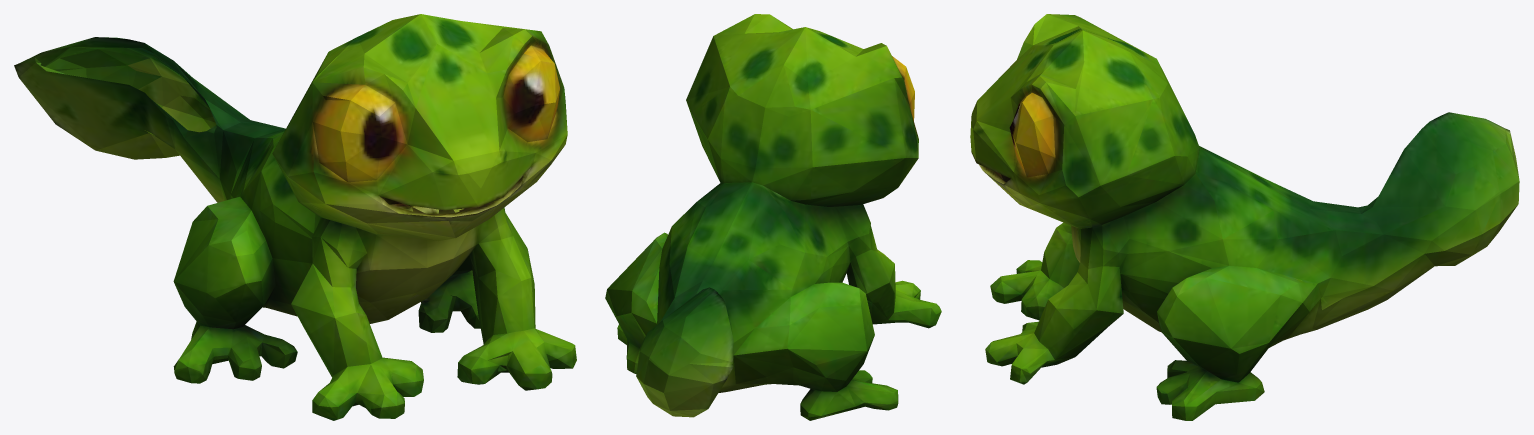
Rendered from m_grenouille_petit.glb.
3 renders of one model, left to right at view 1: azimuth 30°, elevation 25°; view 2: azimuth 150°, elevation 25°; view 3: azimuth 270°, elevation 25°, orthographic. The views are drawn at different scales.
Parts seen in each view (by area): view 1: monstre; view 2: monstre; view 3: monstre.
Part boxes in pixels (x1,y1,x2,y2): monstre: (14,14,576,420); monstre: (605,14,941,420); monstre: (970,14,1519,420).
Bounding box in the file's own units: 0.6292 × 0.6545 × 1.
Materials: 1 (1 with a texture image).
